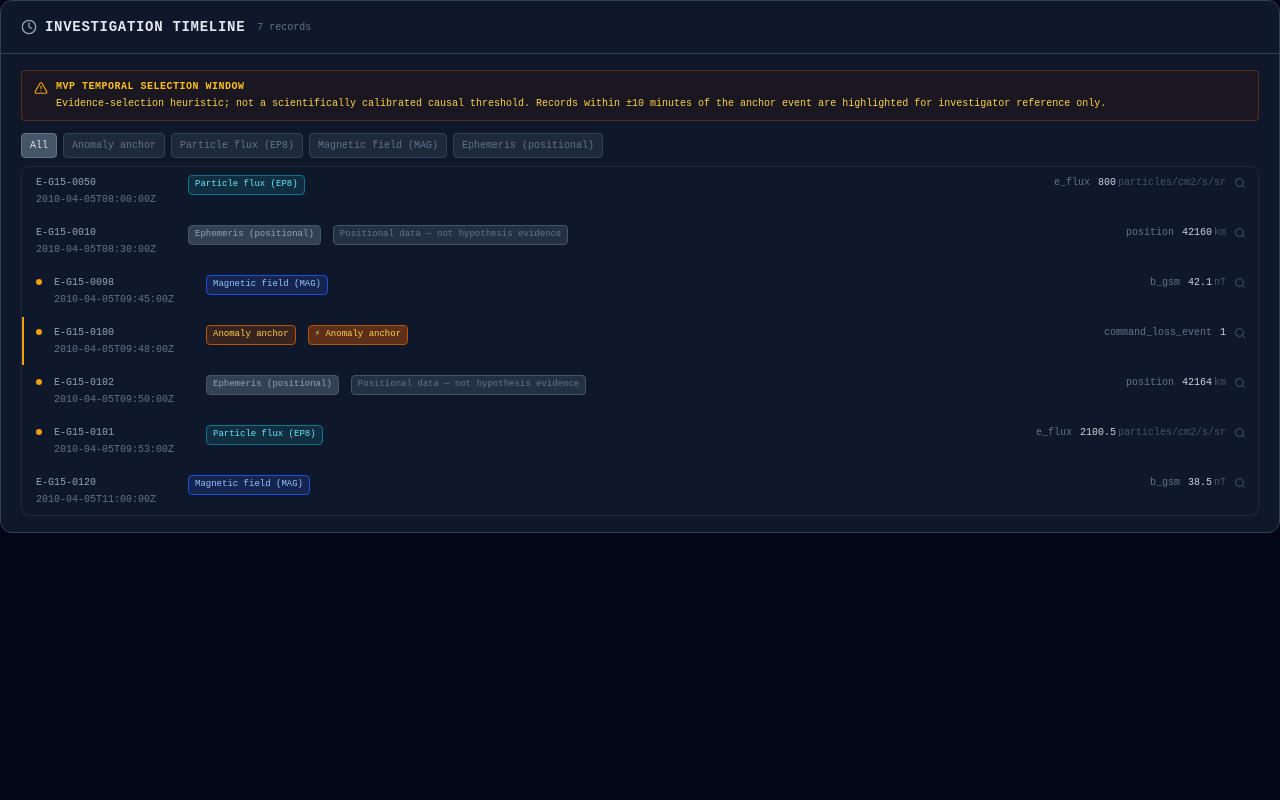
InvestigationTimeline › TL-14: a provenance fetch failure shows an error message without crashing
Click the button with test id "timeline-row-E-G15-0101": (84, 433) [22,417,1258,465]
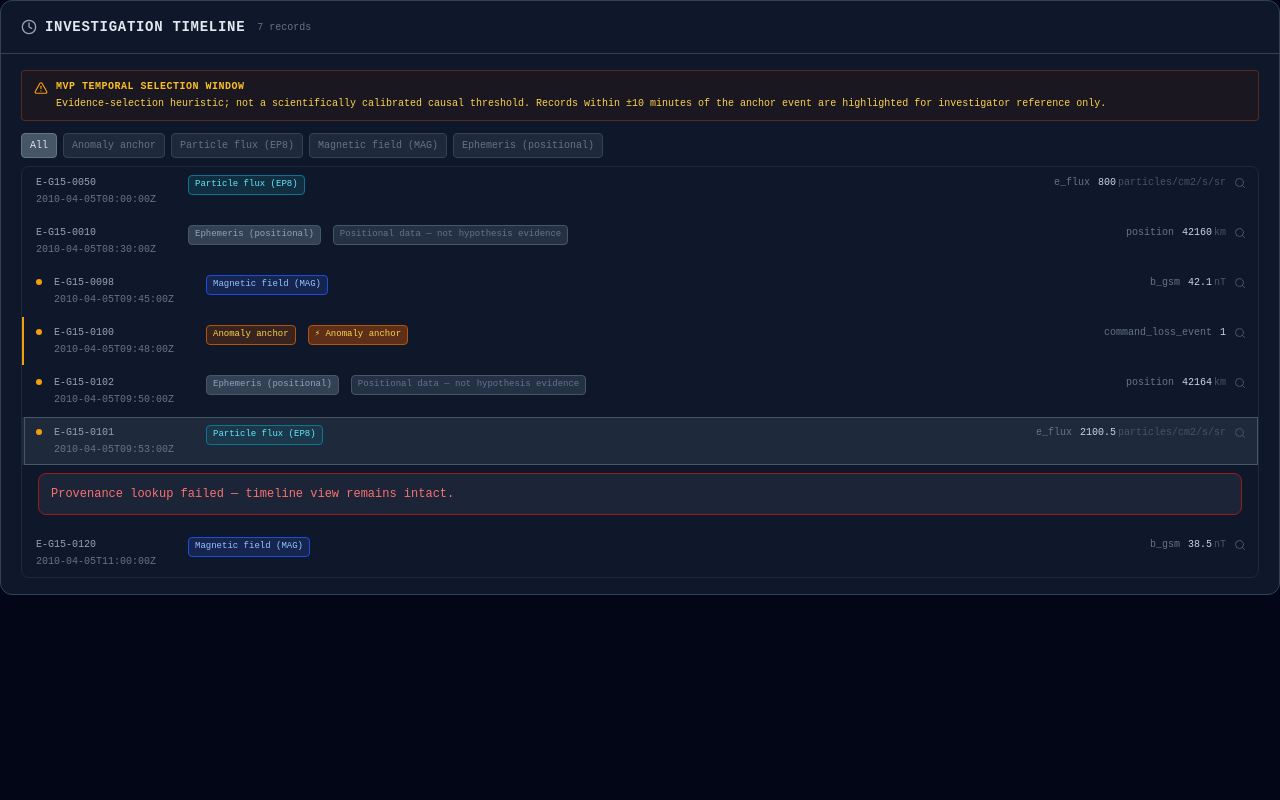
Expected: the element with test id "temporal-window-banner" is shown, [21,70,1259,121]
Expected: the element with test id "timeline-provenance-panel" is shown, [38,473,1242,515]
Expected: the text with test id "tl-prov-error" reads "Provenance lookup failed — timeline view remains intact.", [51,487,454,501]
